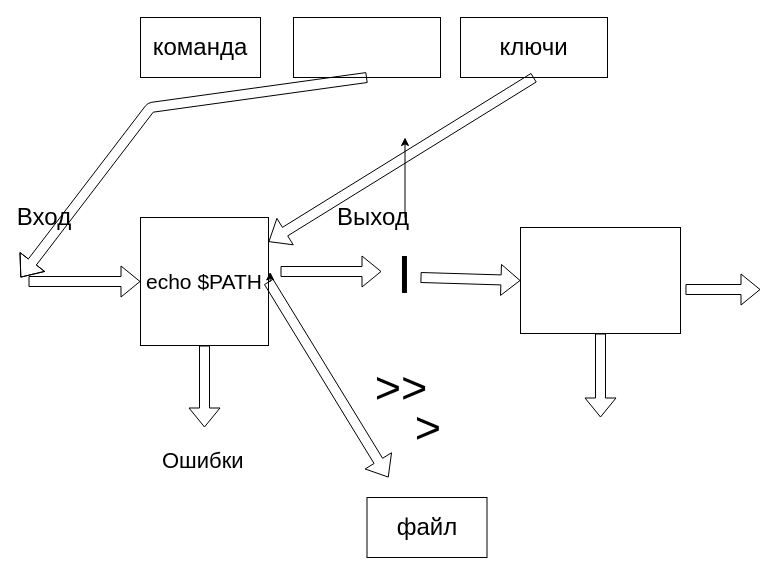
This 777x575 diagram has some shape labels left out. Each missing label, with the box of its shape:
grep findstr: (520, 226, 680, 334)
параметры: (292, 16, 440, 78)
